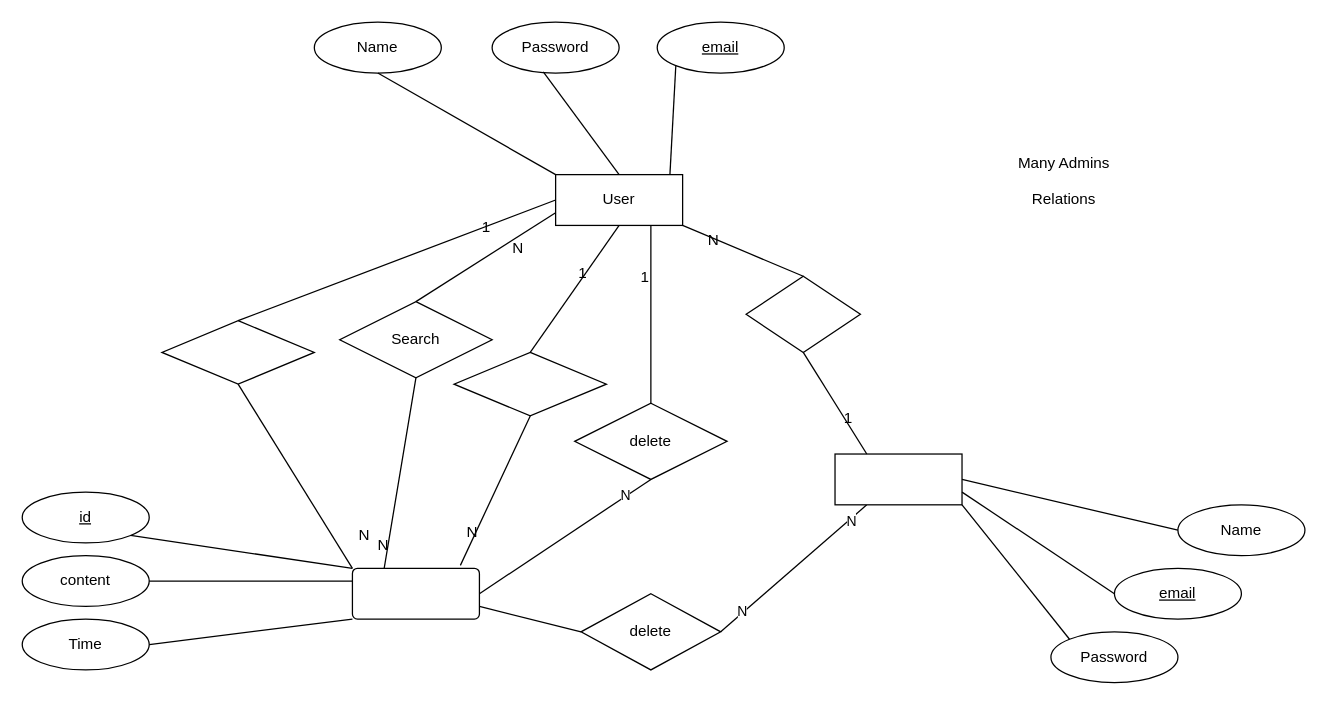
This 1327x705 diagram has some shape labels left out. The shapes that lost their labels are listed below. From the top down, each one's centre as x and y in pixels, then its label:
At pixel 802 313: "Ban/unban".
At pixel 237 351: "Recieve".
At pixel 529 383: "send".
At pixel 898 479: "Admin".
At pixel 415 593: "Messages".
